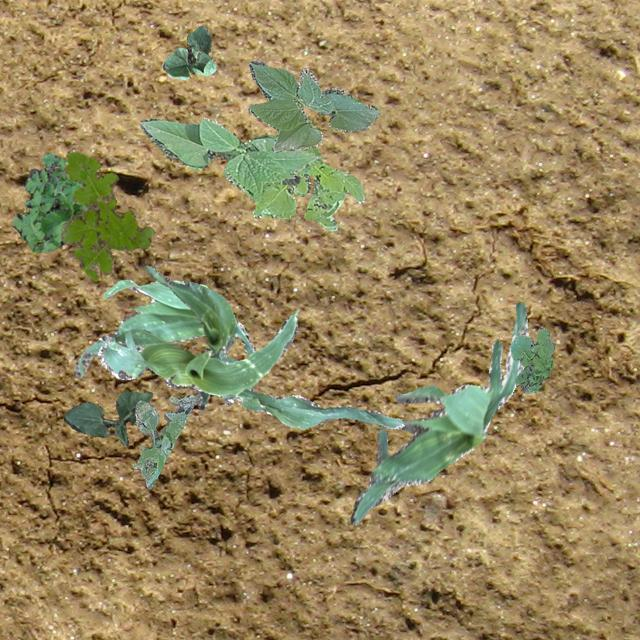crop: (350, 302, 528, 524), (96, 308, 402, 428), (72, 278, 255, 404), (140, 116, 318, 200), (144, 264, 235, 408), (248, 60, 378, 152), (62, 390, 152, 446), (162, 24, 216, 78)
weed: (59, 150, 152, 280), (244, 138, 364, 230), (11, 152, 86, 252), (132, 393, 196, 488), (509, 326, 554, 392)
